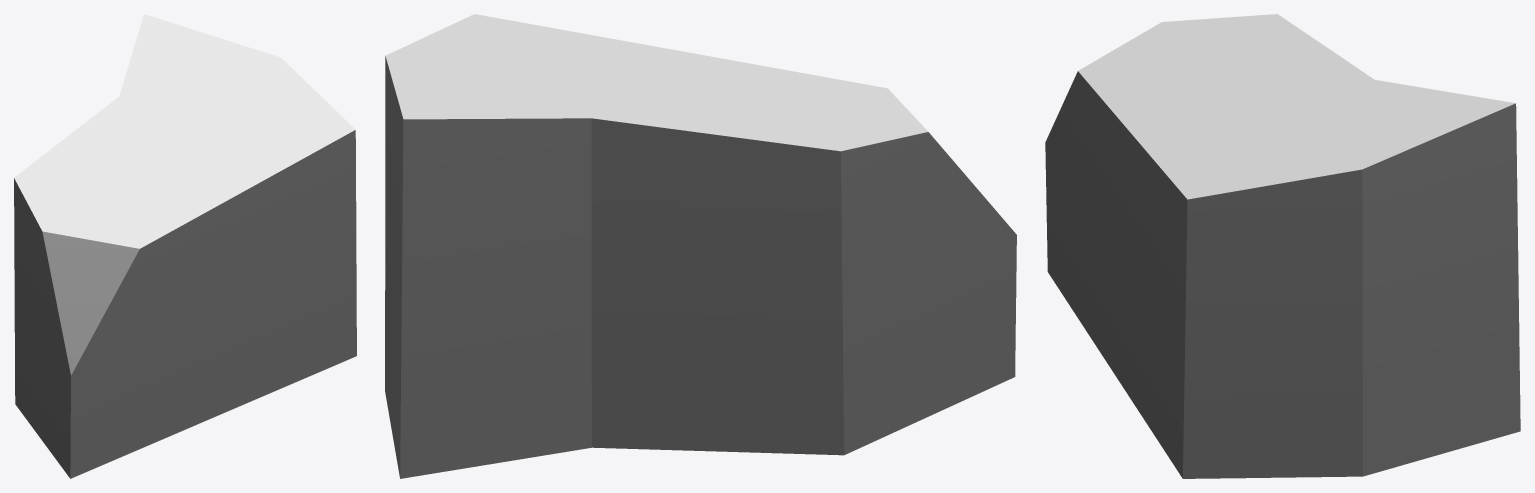
File: stone winter small.fbx
3 views of the same model, side by side, from view 1: azimuth 30°, elevation 25°; view 2: azimuth 150°, elevation 25°; view 3: azimuth 270°, elevation 25° (orthographic). The views are drawn at different scales.
Visible parts, largest first — view 1: stone winter small; view 2: stone winter small; view 3: stone winter small.
Part boxes in pixels (x1,y1,x2,y2): stone winter small: (14,14,356,478); stone winter small: (385,14,1016,478); stone winter small: (1045,14,1520,478).
Bounding box in the file's own units: 67.55 × 49.73 × 65.36.
